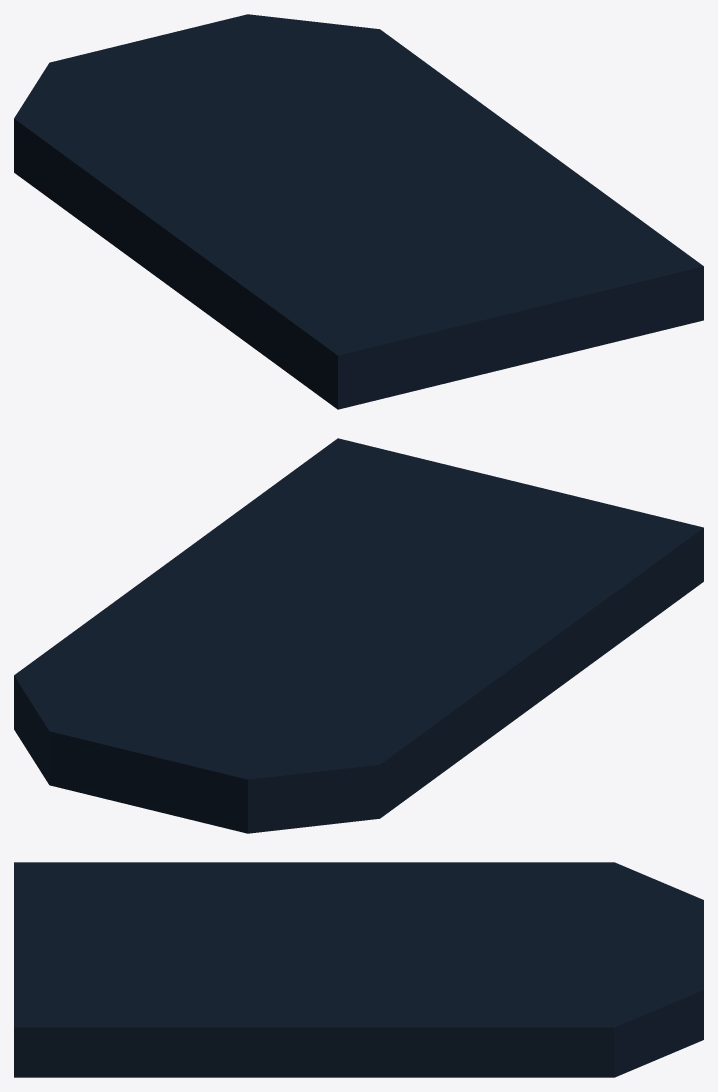
File: FlyFloor_l 2.fbx
3 views of the same model, one above another, from view 1: azimuth 30°, elevation 25°; view 2: azimuth 150°, elevation 25°; view 3: azimuth 270°, elevation 25° (orthographic). The views are drawn at different scales.
Parts seen in each view (by area): view 1: Genre.007; view 2: Genre.007; view 3: Genre.007.
Part boxes in pixels (left/top/right/bottom): Genre.007: left=14, top=14, right=703, bottom=409; Genre.007: left=14, top=438, right=703, bottom=833; Genre.007: left=14, top=862, right=703, bottom=1077.
Bounding box in the file's own units: 436 × 769 × 61.62.
